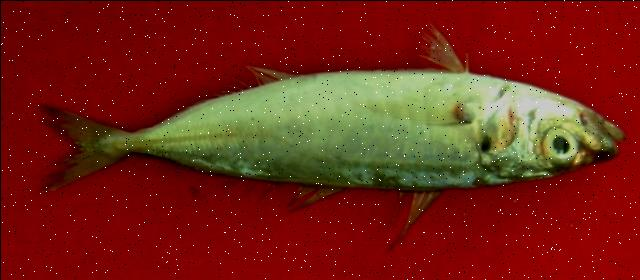Mulut: (584, 103, 634, 168)
Sirip Anal: (192, 63, 304, 109)
Sirip Dada: (351, 88, 477, 134)
Sirip Ekor: (27, 94, 137, 224)
Sirip Perut: (409, 17, 466, 77)
Sirip Punggung: (274, 184, 442, 258)
